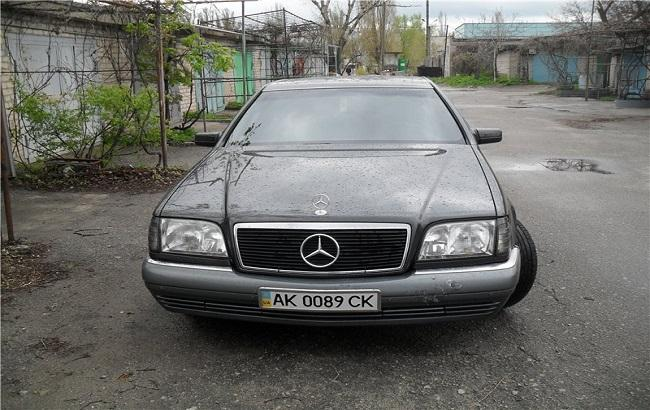car: (140, 76, 538, 333)
plate: (257, 288, 378, 312)
